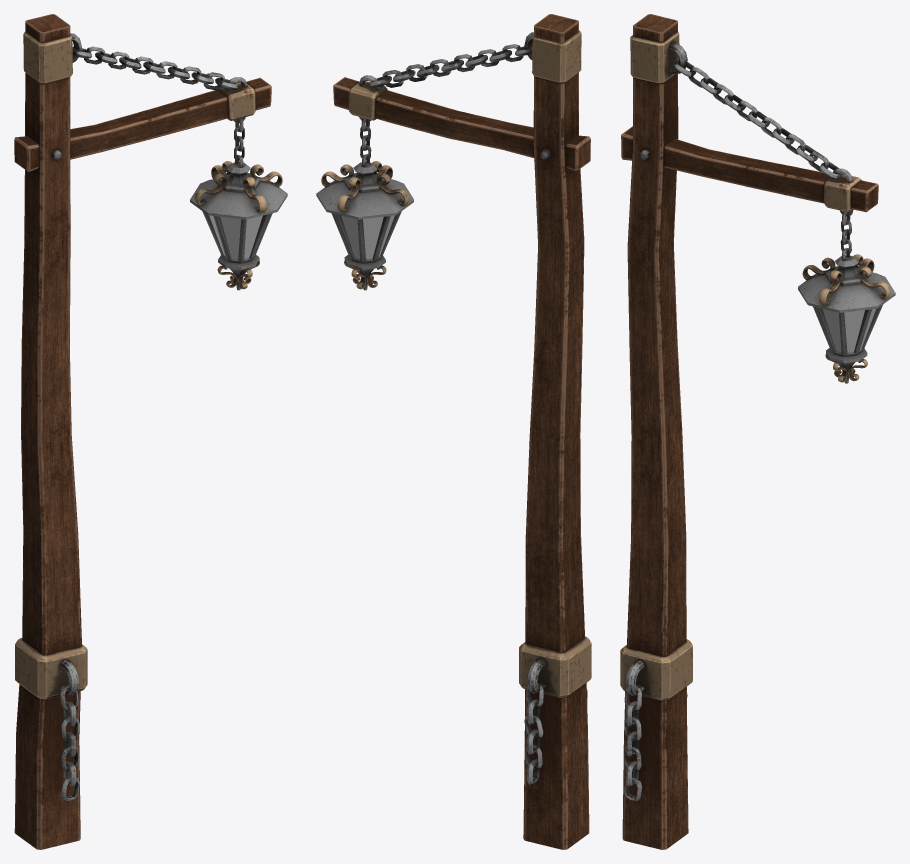
Rendered from Wooden Lamp Post.fbx.
3 views of the same model, side by side, from view 1: azimuth 30°, elevation 25°; view 2: azimuth 150°, elevation 25°; view 3: azimuth 330°, elevation 25° (orthographic).
Visible parts, largest first — view 1: WoodenLampPost_Main, WoodenLampPost_Metal; view 2: WoodenLampPost_Main, WoodenLampPost_Metal; view 3: WoodenLampPost_Main, WoodenLampPost_Metal.
Part boxes in pixels (x1=…): WoodenLampPost_Main: x1=14, y1=14, x2=271, y2=849; WoodenLampPost_Metal: x1=15, y1=32, x2=287, y2=800; WoodenLampPost_Main: x1=333, y1=14, x2=590, y2=849; WoodenLampPost_Metal: x1=316, y1=30, x2=591, y2=784; WoodenLampPost_Main: x1=621, y1=14, x2=878, y2=849; WoodenLampPost_Metal: x1=620, y1=32, x2=895, y2=801.
Bounding box in the file's own units: 82.15 × 244 × 29.15.
Materials: 3 (2 with a texture image).
